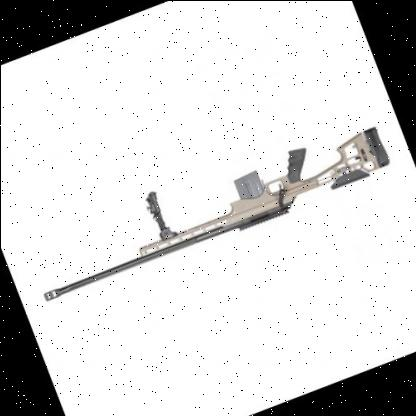rifle: (18, 102, 404, 310)
